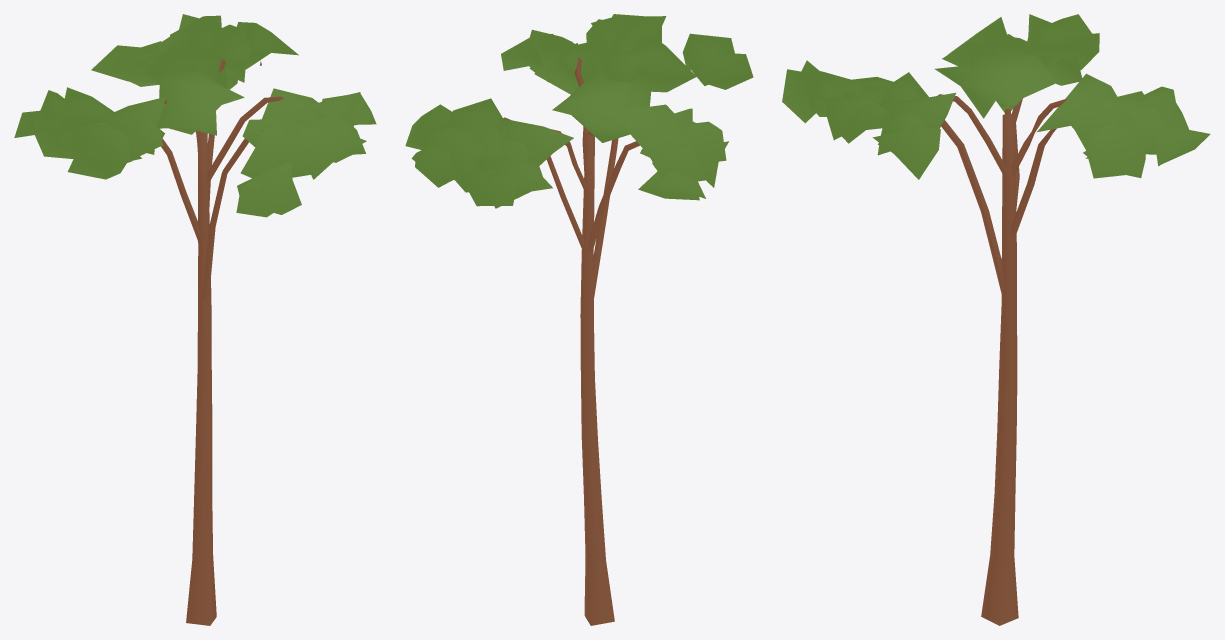
Rendered from Blender_SlashPine_2_Far.glb.
3 views of the same model, side by side, from view 1: azimuth 30°, elevation 25°; view 2: azimuth 150°, elevation 25°; view 3: azimuth 270°, elevation 25° (orthographic). The views are drawn at different scales.
Parts seen in each view (by area): view 1: Blender_SlashPine_2_Far; view 2: Blender_SlashPine_2_Far; view 3: Blender_SlashPine_2_Far.
Boxes of the visible parts, x1,y1,x2,y2 form: Blender_SlashPine_2_Far: (14, 14, 376, 625); Blender_SlashPine_2_Far: (405, 14, 753, 625); Blender_SlashPine_2_Far: (782, 14, 1210, 625).
Size of the model in its own units: 10.19 by 18.09 by 12.62.
